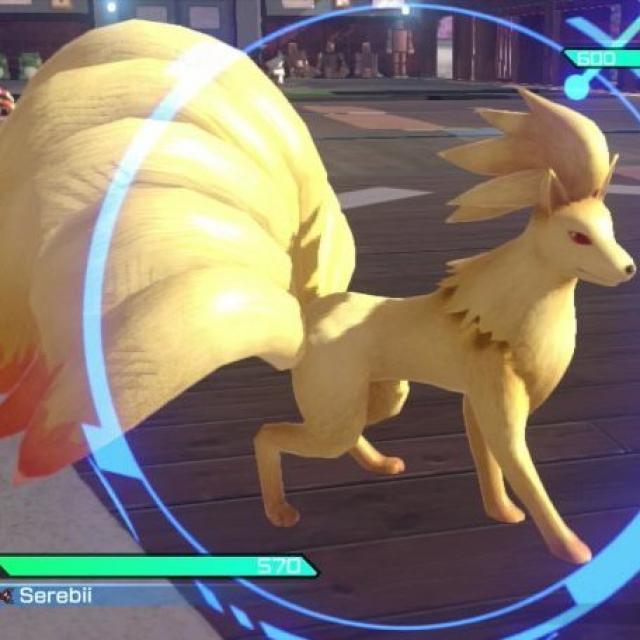Ninetales: (155, 120, 627, 510)
